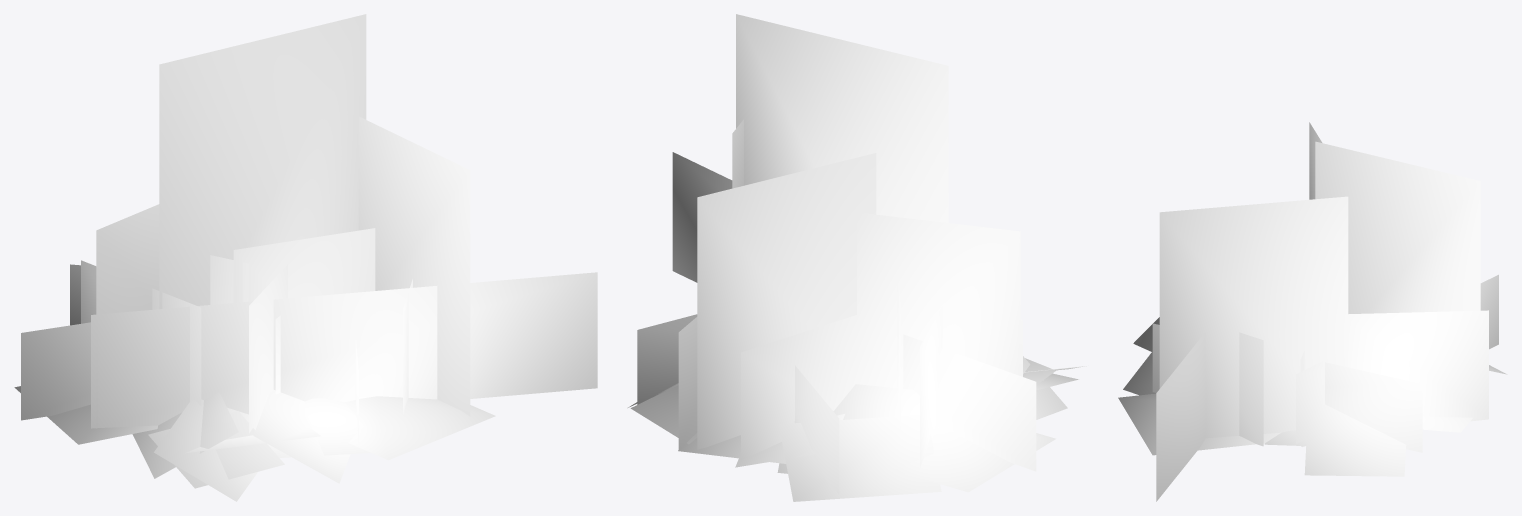
File: SM_Env_Ground_Cover_03.glb
3 views of the same model, side by side, from view 1: azimuth 30°, elevation 25°; view 2: azimuth 150°, elevation 25°; view 3: azimuth 270°, elevation 25° (orthographic). The views are drawn at different scales.
Visible parts, largest first — view 1: SM_Env_Ground_Cover_03_LOD0; view 2: SM_Env_Ground_Cover_03_LOD0; view 3: SM_Env_Ground_Cover_03_LOD0.
Boxes of the visible parts, x1,y1,x2,y2 form: SM_Env_Ground_Cover_03_LOD0: (14,14,597,501); SM_Env_Ground_Cover_03_LOD0: (628,14,1086,501); SM_Env_Ground_Cover_03_LOD0: (1118,122,1507,501).
Size of what is drawn, in the model's own units: 2.08 by 1.6 by 1.61.
1 material, 1 textured.
